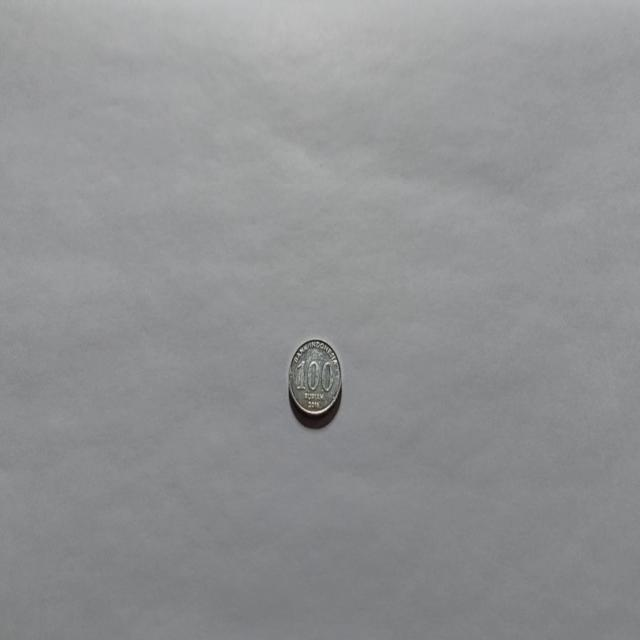seratus rupiah: (286, 337, 342, 423)
